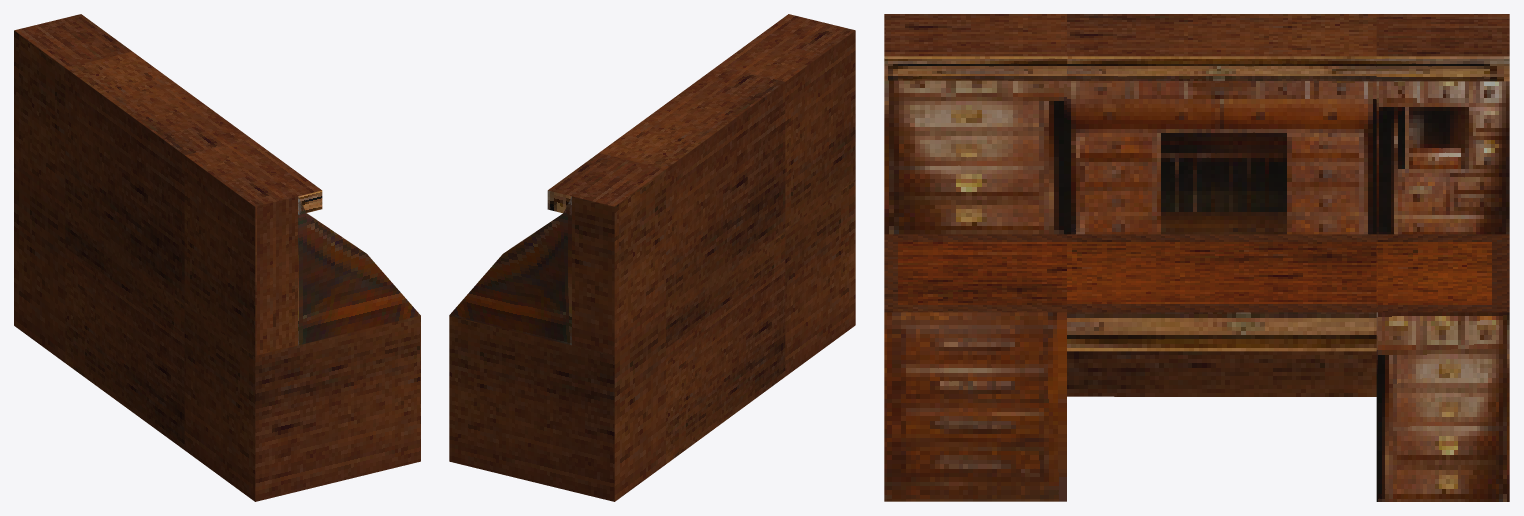
Rendered from antique_roll_top_desk.gltf.
3 views of the same model, side by side, from view 1: azimuth 30°, elevation 25°; view 2: azimuth 150°, elevation 25°; view 3: azimuth 270°, elevation 25° (orthographic). The views are drawn at different scales.
Parts seen in each view (by area): view 1: Cube; view 2: Cube; view 3: Cube.
Boxes of the visible parts, x1,y1,x2,y2 form: Cube: (14,14,420,501); Cube: (449,14,855,501); Cube: (884,14,1509,501).
Size of the model in its own units: 2 by 3.41 by 5.04.
Materials: 1 (1 with a texture image).
